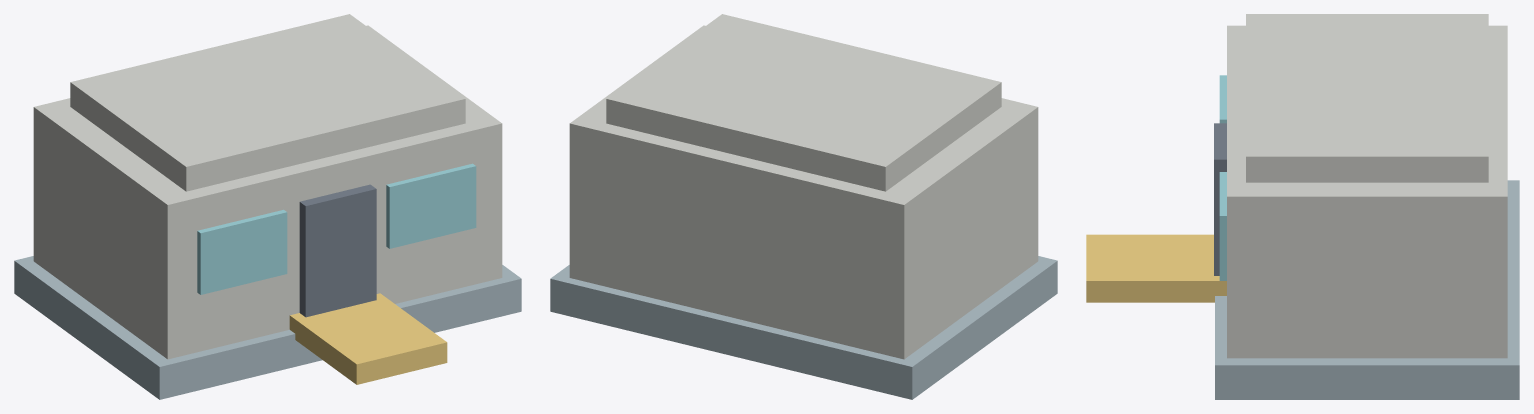
File: mars-habitat.glb
The picture shows the model from 3 angles, left to right: view 1: azimuth 30°, elevation 25°; view 2: azimuth 150°, elevation 25°; view 3: azimuth 270°, elevation 25°; orthographic projection. The views are drawn at different scales.
Visible parts, largest first — view 1: Habitat de colonie martienne; view 2: Habitat de colonie martienne; view 3: Habitat de colonie martienne.
Part boxes in pixels (left/top/right/bottom): Habitat de colonie martienne: left=14, top=14, right=521, bottom=399; Habitat de colonie martienne: left=550, top=14, right=1057, bottom=399; Habitat de colonie martienne: left=1086, top=14, right=1519, bottom=399.
Bounding box in the file's own units: 4.6 × 2.58 × 4.55.
